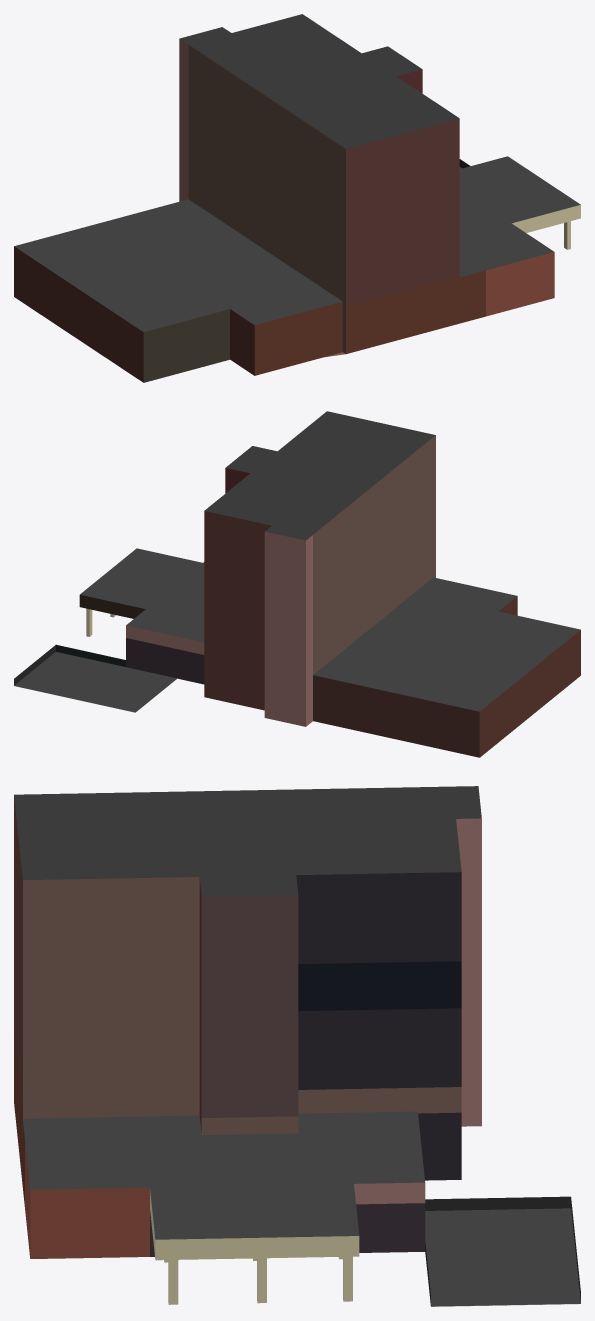
The model's file is doubletree-hotel-chattanooga.glb.
3 views of the same model, one above another, from view 1: azimuth 30°, elevation 25°; view 2: azimuth 150°, elevation 25°; view 3: azimuth 270°, elevation 25° (orthographic). The views are drawn at different scales.
Parts seen in each view (by area): view 1: LOD0; view 2: LOD0; view 3: LOD0.
Part boxes in pixels (bbox=[...]): LOD0: bbox=[14, 14, 580, 382]; LOD0: bbox=[14, 411, 580, 757]; LOD0: bbox=[14, 786, 580, 1306].
Size of what is drawn, in the model's own units: 74.19 by 30.8 by 51.42.
Materials: 3 (3 with a texture image).
